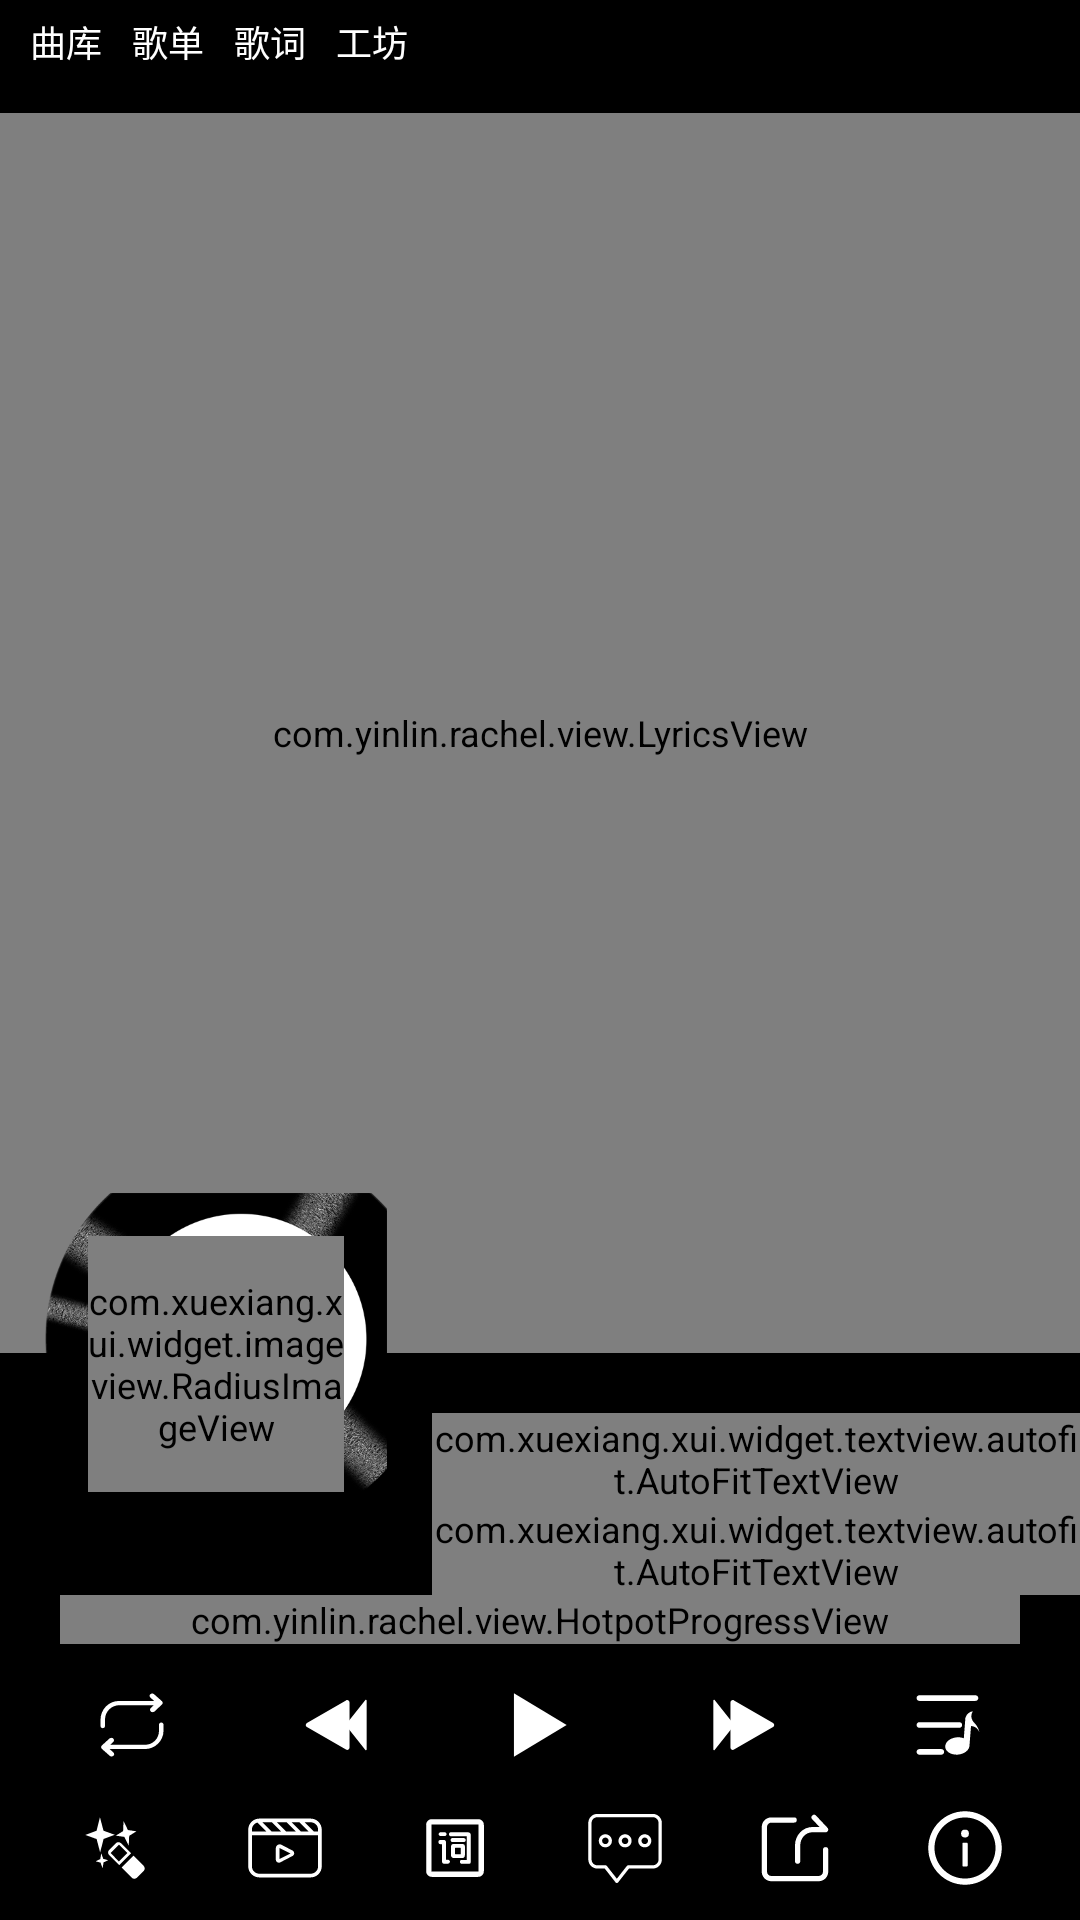

Where icons sit on this 1080px x 1920px app screen, as (x1, y1, x2, y2):
comment: (588, 1814, 662, 1883)
info: (928, 1811, 1002, 1885)
music list: (916, 1695, 980, 1755)
music next: (713, 1699, 774, 1751)
music order: (100, 1693, 164, 1757)
music previous: (305, 1699, 367, 1751)
share: (761, 1814, 829, 1882)
